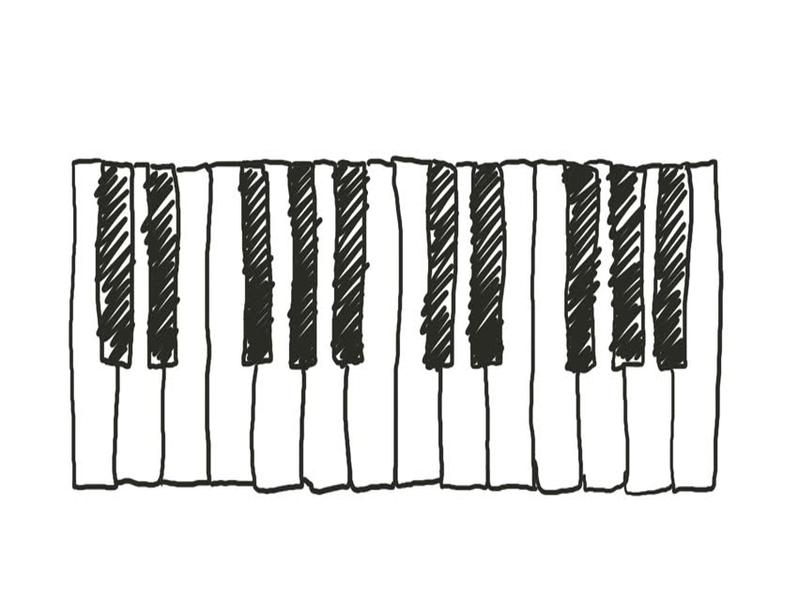piano: (394, 159, 721, 494), (71, 161, 398, 490)
